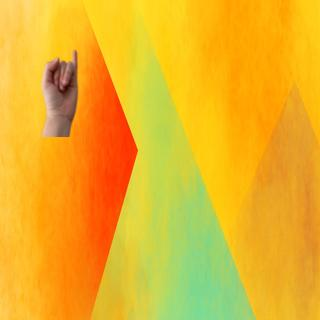Fine: (37, 43, 86, 136)
